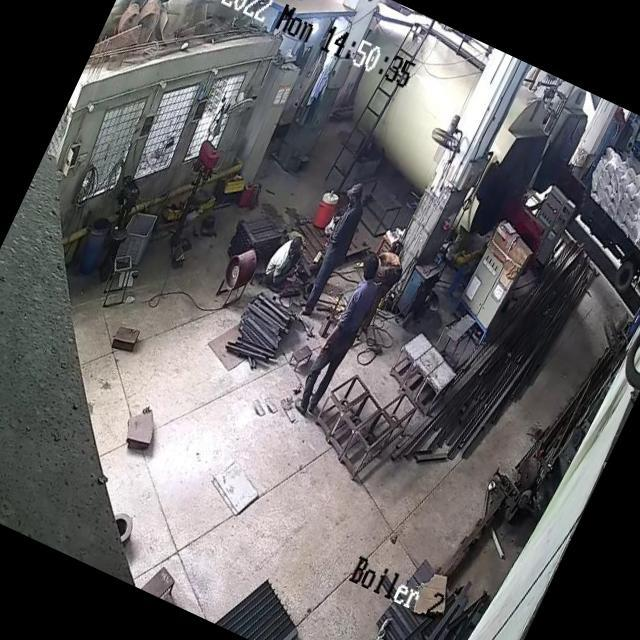person: (300, 250, 390, 406), (297, 176, 374, 307), (352, 243, 414, 339), (260, 230, 308, 288)
